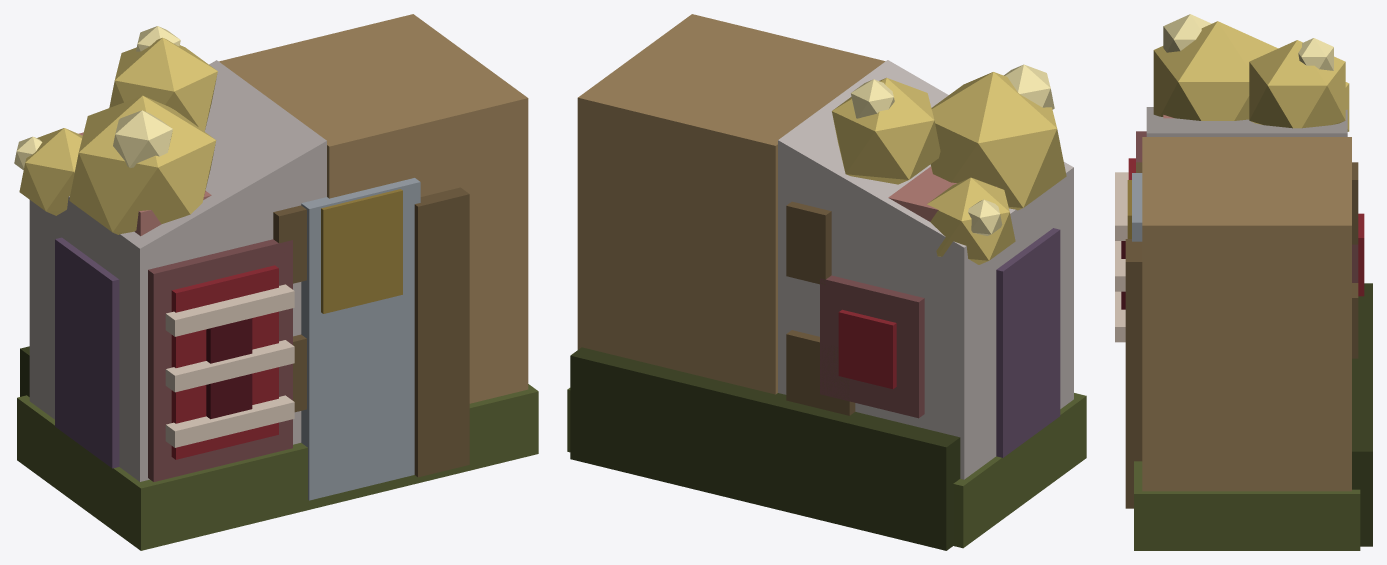
The model's file is inf_v2_walker_upper_torso.fbx.
3 renders of one model, left to right at view 1: azimuth 30°, elevation 25°; view 2: azimuth 150°, elevation 25°; view 3: azimuth 270°, elevation 25°, orthographic. The views are drawn at different scales.
Parts seen in each view (by area): view 1: inf_v2_walker_upper_torso; view 2: inf_v2_walker_upper_torso; view 3: inf_v2_walker_upper_torso.
Boxes of the visible parts, box(x1,y1,x2,y2) form: inf_v2_walker_upper_torso: box(14, 14, 538, 550); inf_v2_walker_upper_torso: box(567, 14, 1086, 550); inf_v2_walker_upper_torso: box(1115, 14, 1372, 550).
Size of the model in its own units: 210 by 204 by 123.
